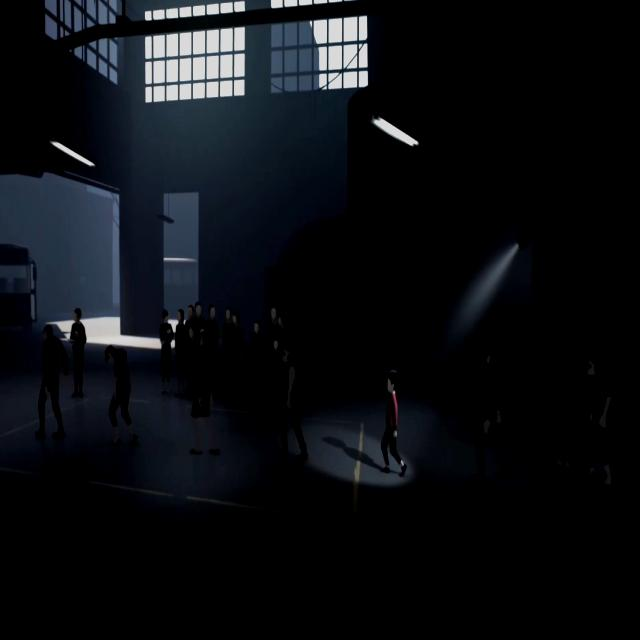boy: (380, 370, 405, 477)
human: (70, 308, 86, 397), (250, 318, 265, 403), (206, 304, 219, 396), (160, 310, 174, 394), (232, 309, 244, 402), (268, 305, 280, 338), (191, 302, 204, 325)
zombie: (472, 349, 508, 481), (582, 352, 614, 489), (278, 344, 308, 462), (36, 328, 66, 439), (190, 333, 217, 456), (106, 346, 137, 448)
